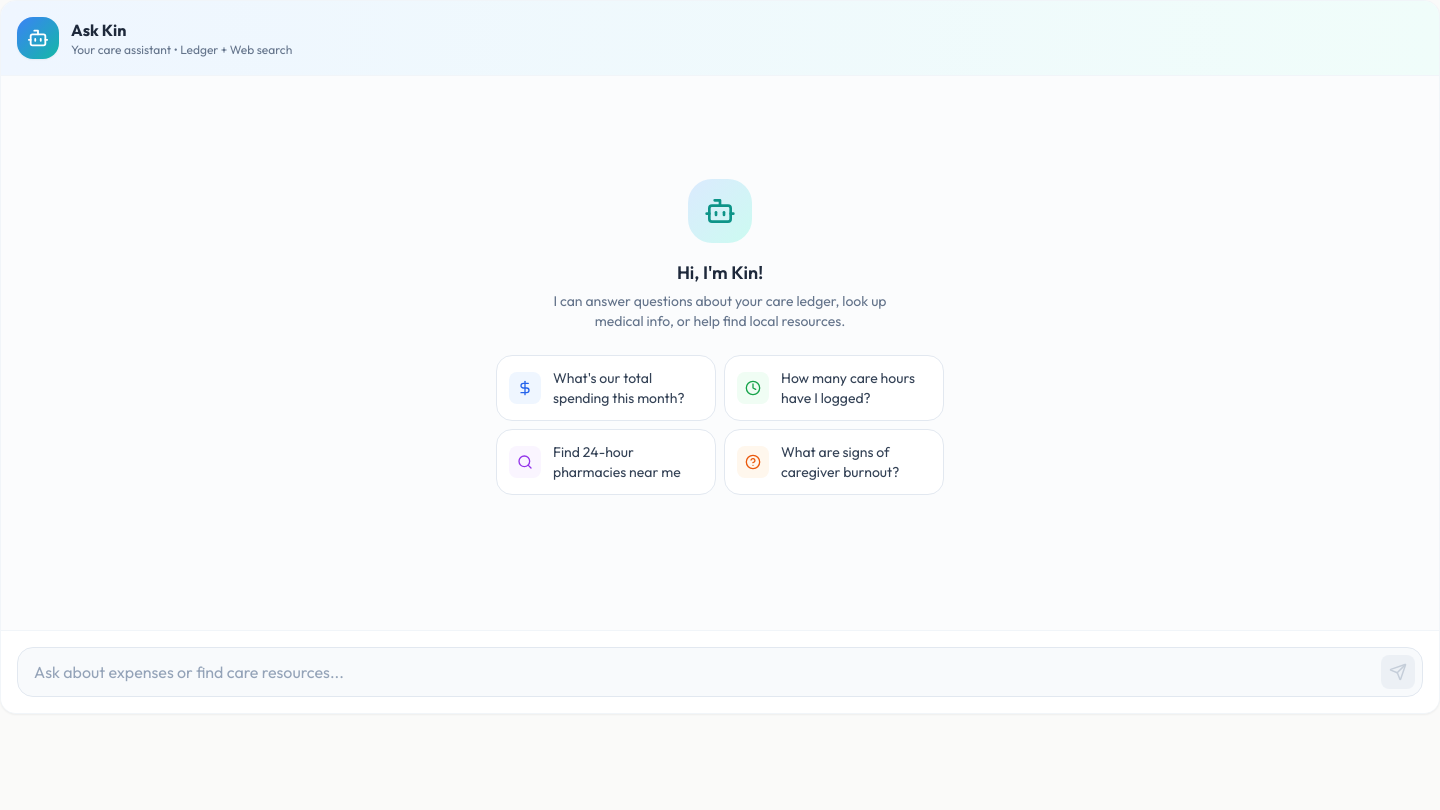
ChatAssistant › sends a query and renders the response
(page scrolled)
In the field with placeholder "Ask about expenses or find care resources...": coordinates (720, 672) 17,647 -> 1423,697, type "Hello"
Then press Enter
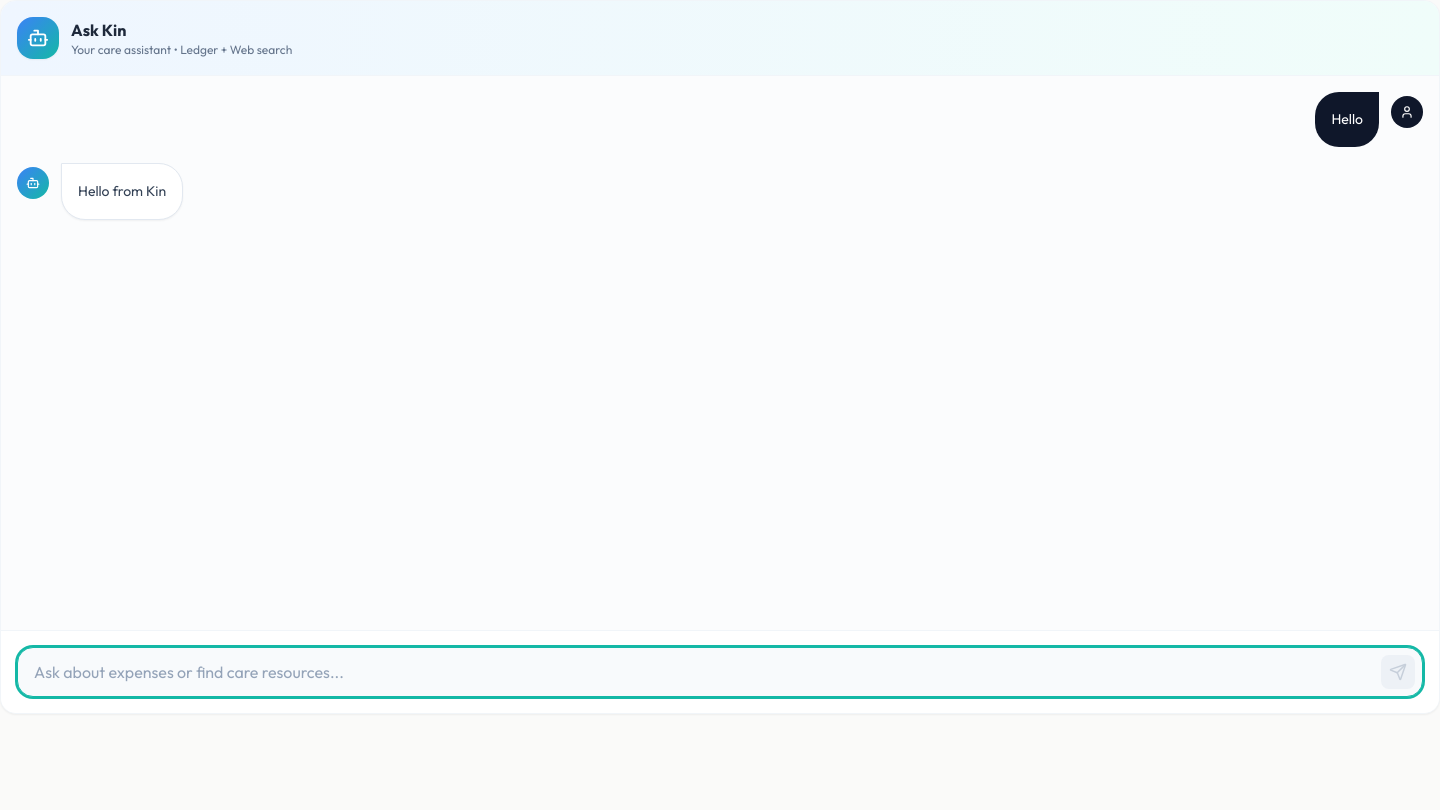
expect the text "Hello from Kin" is shown: met, box 78,182 -> 166,200
